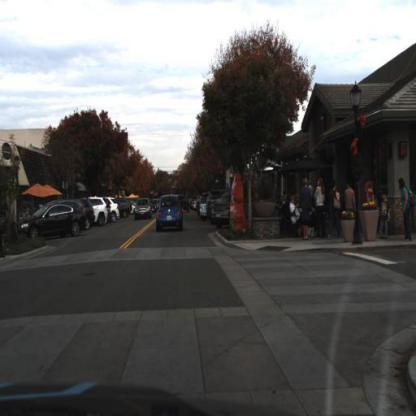car: (19, 203, 89, 243), (153, 190, 187, 236), (80, 197, 97, 233), (92, 196, 109, 229), (207, 190, 222, 226), (214, 195, 231, 226), (133, 195, 152, 222), (109, 196, 120, 220), (121, 196, 130, 219), (200, 198, 207, 222), (131, 199, 138, 215)
pedestrian: (397, 178, 414, 240), (301, 178, 314, 239), (329, 181, 340, 237), (316, 178, 325, 234), (380, 190, 390, 239), (366, 174, 377, 211), (344, 181, 356, 212), (288, 194, 299, 224), (196, 194, 201, 218)
